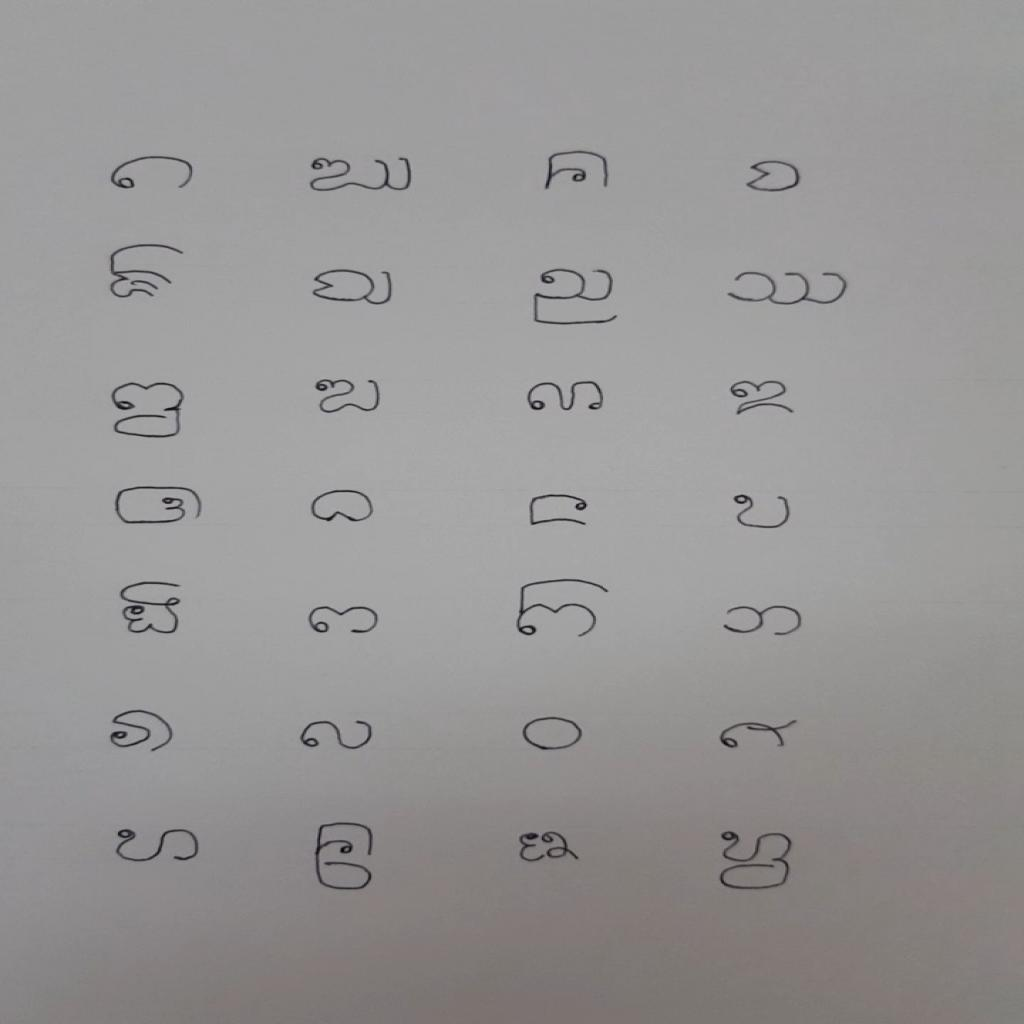LN003: (104, 152, 202, 195)
LN004: (301, 152, 424, 200)
LN005: (534, 147, 621, 196)
LN006: (743, 156, 809, 197)
LN009: (99, 240, 194, 305)
LN010: (307, 263, 406, 311)
LN011: (527, 264, 629, 333)
LN012: (721, 266, 856, 311)
LN015: (103, 378, 192, 445)
LN016: (310, 375, 394, 420)
LN017: (521, 377, 614, 418)
LN018: (724, 375, 803, 420)
LN021: (106, 482, 212, 530)
LN022: (305, 486, 384, 528)
LN023: (520, 489, 601, 534)
LN024: (724, 489, 802, 534)
LN027: (114, 578, 191, 641)
LN028: (301, 602, 389, 639)
LN029: (510, 575, 617, 644)
LN030: (715, 600, 812, 643)
LN033: (103, 704, 186, 760)
LN034: (290, 713, 383, 757)
LN035: (513, 712, 595, 757)
LN036: (711, 713, 805, 756)
LN039: (110, 825, 209, 868)
LN040: (311, 818, 381, 895)
LN041: (504, 826, 590, 869)
LN042: (711, 827, 802, 897)
